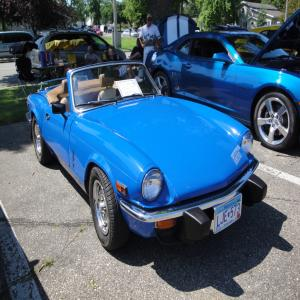Vehicle-registration-plate: (217, 207, 242, 234)
